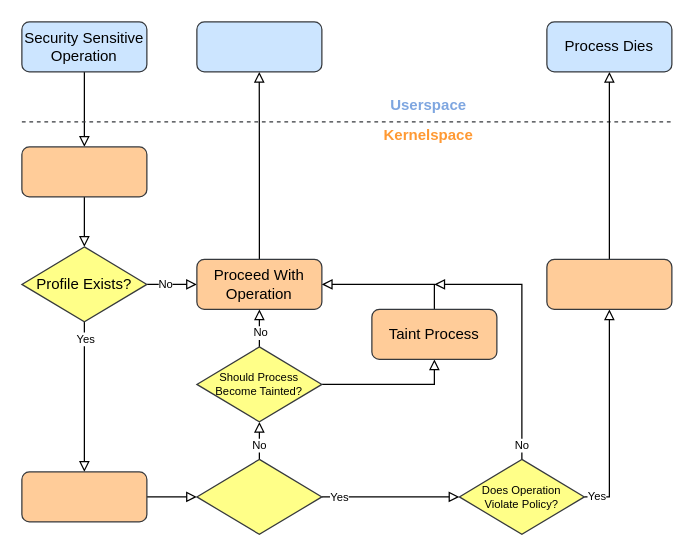
The diagram is 695 pixels wide and 556 high, and some of its shapes have lost their labels. The centre of each missing label's shape, as x and y in pixels:
"BPF Program Entrypoint" belongs at point (84, 171).
"Is Process Tainted?" belongs at point (259, 496).
"Return Normally" belongs at point (259, 46).
"Send sigkill" belongs at point (609, 283).
"Tail Call Policy Program" belongs at point (84, 496).
